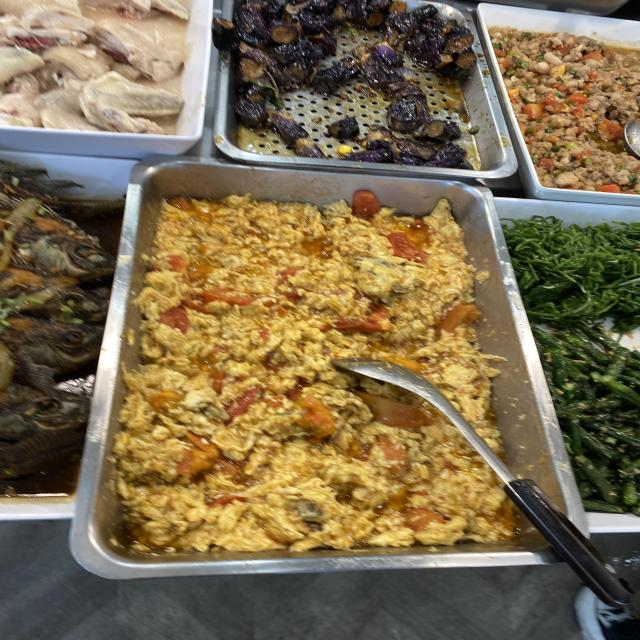Scramble Egg with Tomatoes: (178, 221, 438, 350)
